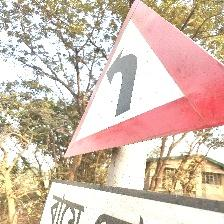Left-Turn: (37, 3, 224, 224)
